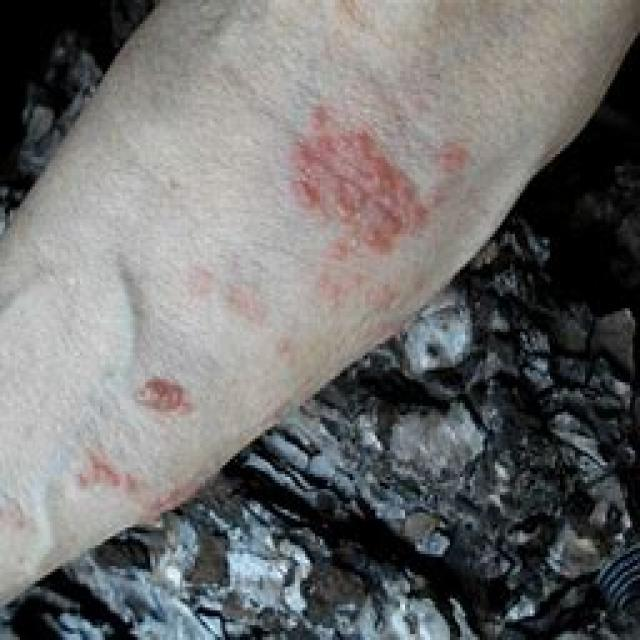Shingles: (280, 106, 471, 252), (76, 452, 188, 515), (128, 376, 206, 420)
